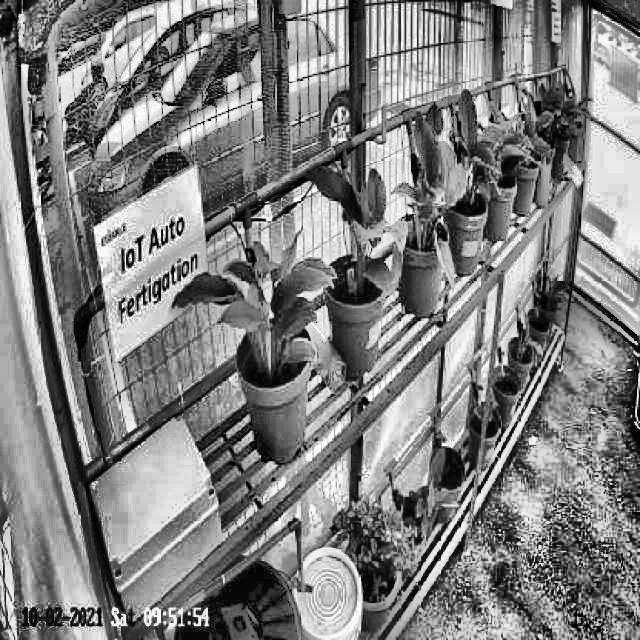plants: (171, 226, 337, 369), (309, 154, 411, 303), (396, 102, 458, 298), (434, 86, 508, 211)
